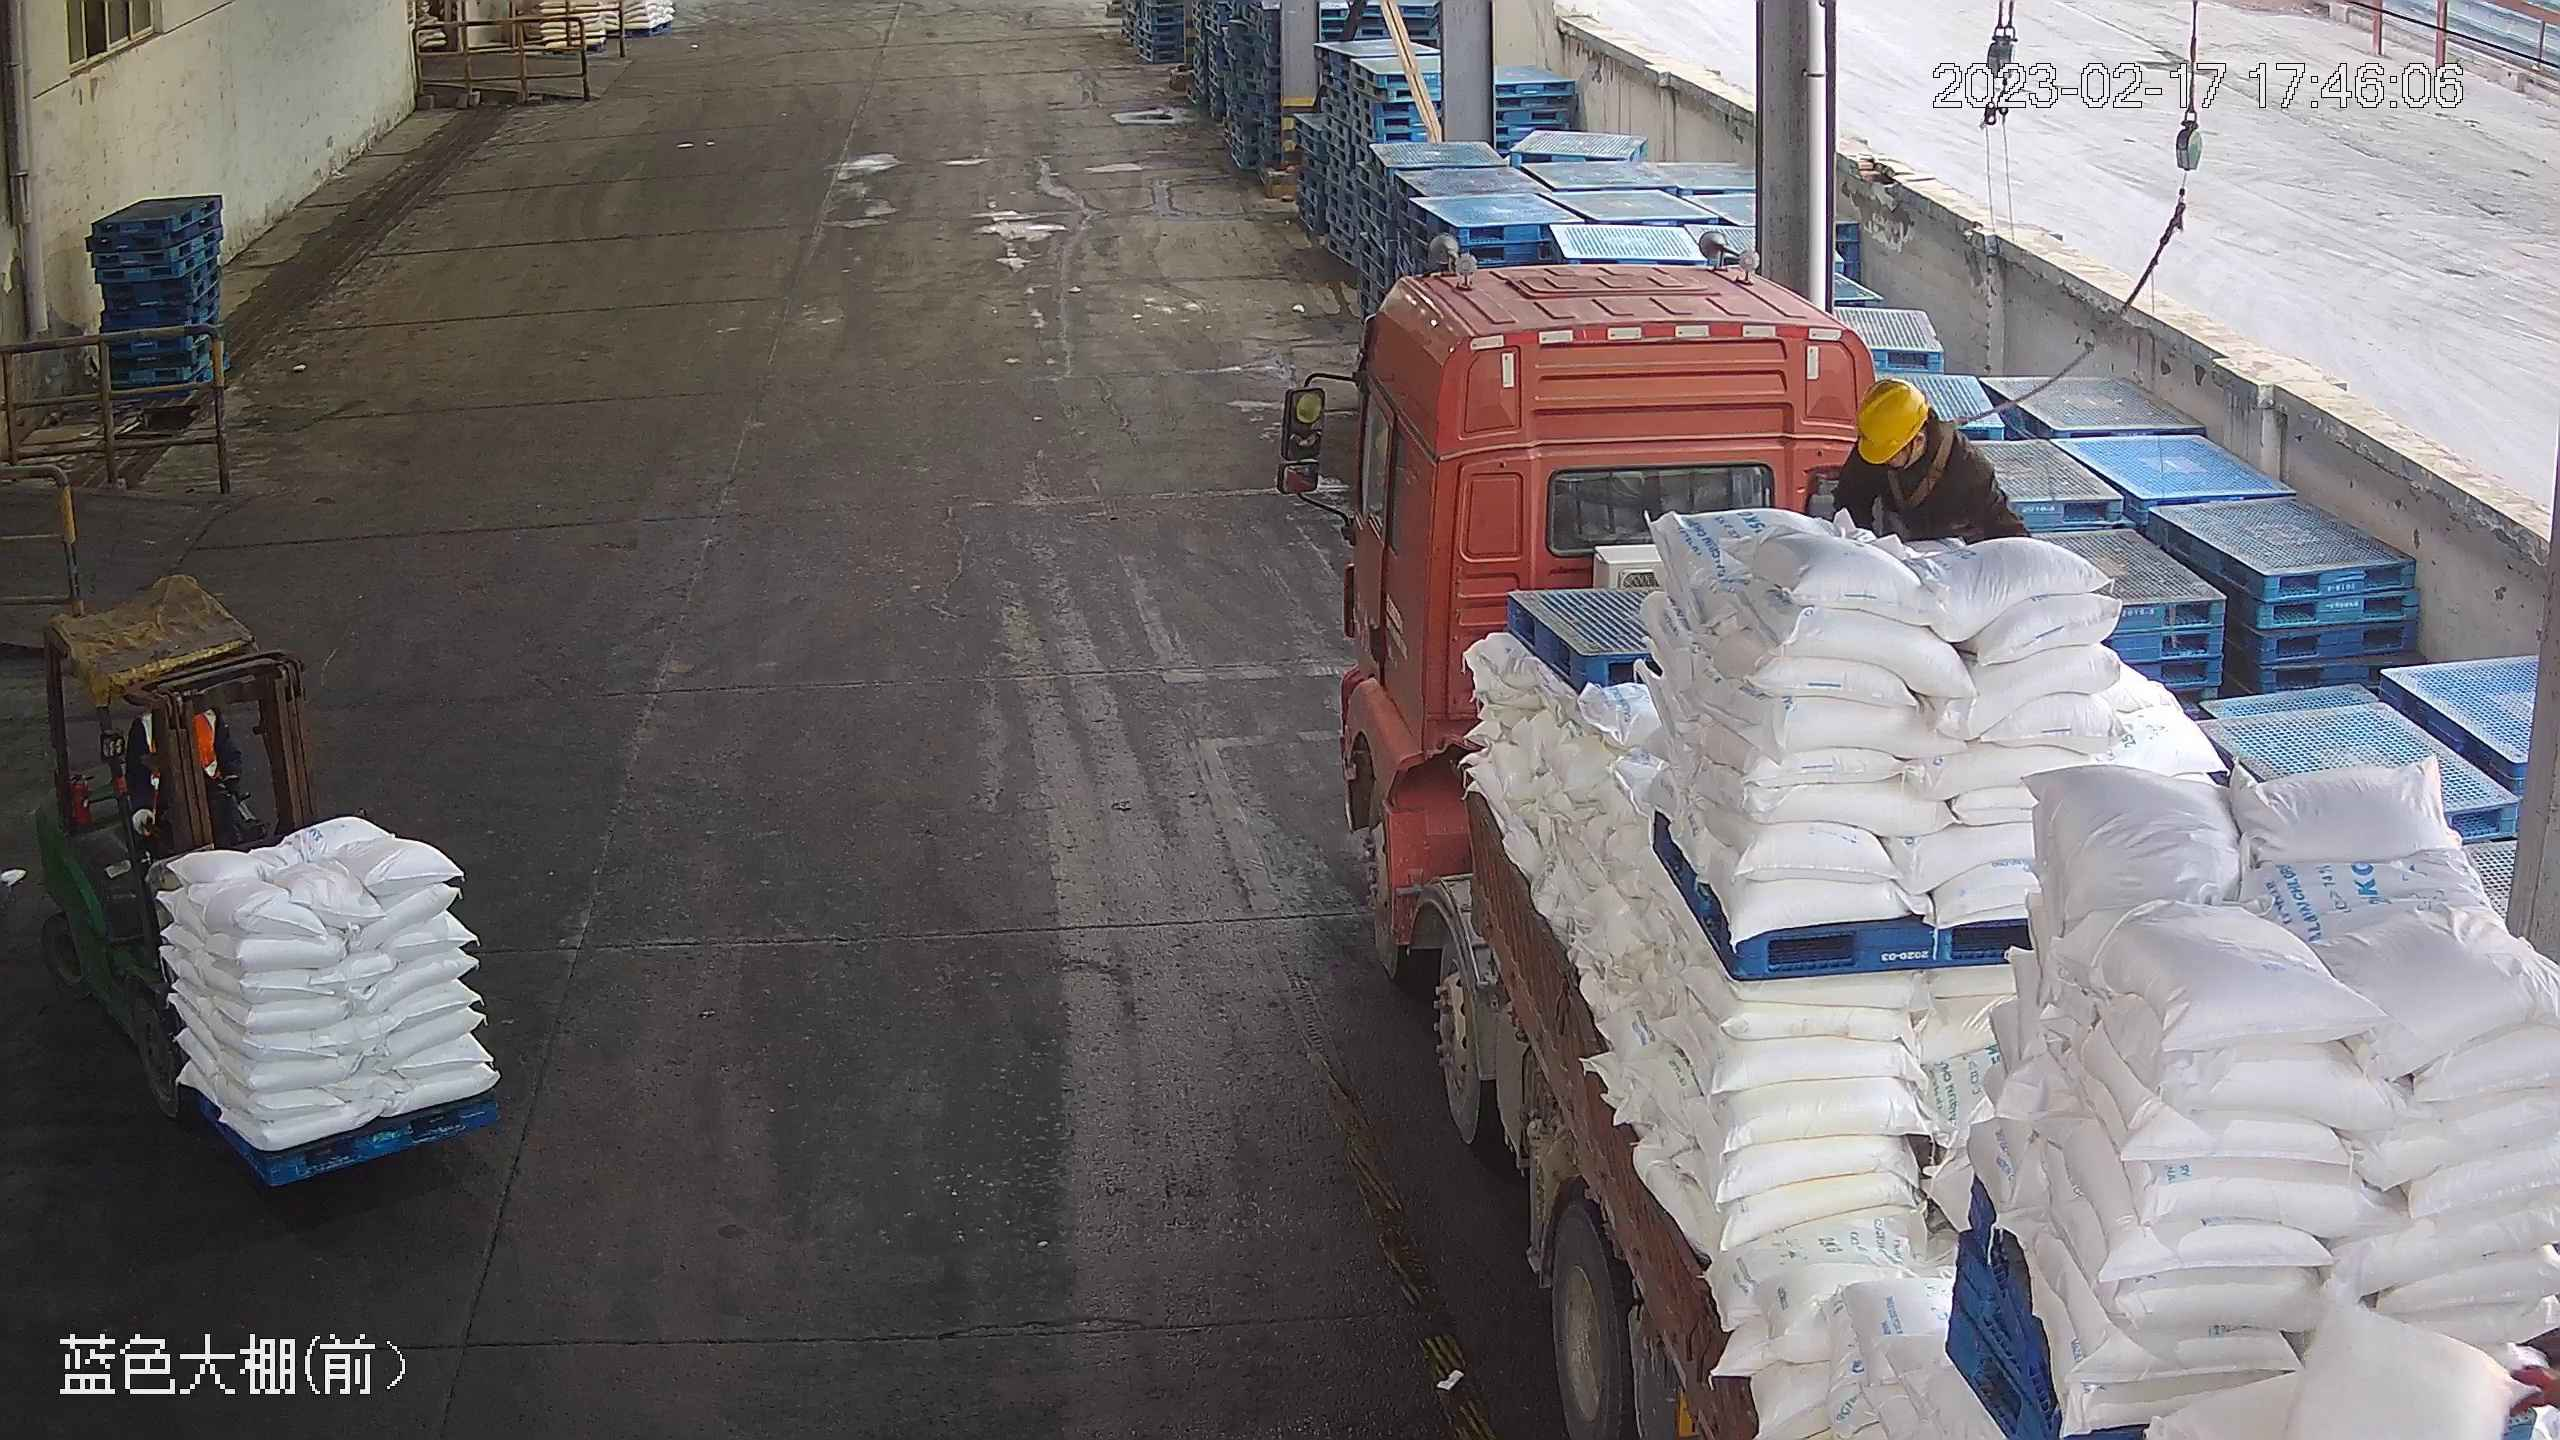belt: (1879, 405, 1987, 533)
head: (1711, 388, 1863, 516)
helmet: (1855, 376, 1928, 465)
truck: (1276, 255, 2560, 1440)
